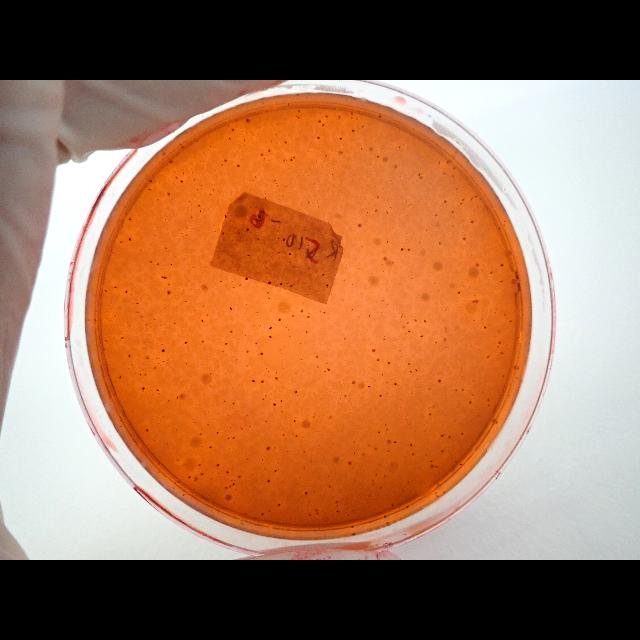colony: (368, 146, 374, 152), (338, 150, 344, 156), (148, 179, 154, 183), (168, 158, 172, 164), (486, 354, 490, 360), (475, 262, 479, 268), (394, 164, 398, 170), (418, 177, 424, 180), (180, 179, 184, 183), (167, 192, 171, 196), (148, 188, 152, 192), (224, 159, 228, 163), (228, 137, 232, 141), (246, 118, 250, 122), (260, 153, 264, 157), (246, 228, 250, 232), (104, 289, 108, 293), (146, 356, 150, 360), (128, 354, 132, 358), (118, 375, 122, 379), (156, 388, 160, 392), (200, 472, 204, 476), (228, 484, 232, 488), (266, 446, 270, 450), (272, 403, 276, 407), (294, 390, 298, 394), (268, 335, 272, 339), (260, 352, 264, 356), (317, 136, 321, 140), (318, 119, 322, 123), (286, 102, 290, 106), (284, 140, 288, 144), (128, 237, 132, 241), (156, 262, 160, 266), (314, 508, 318, 512), (328, 484, 332, 488), (308, 512, 312, 516), (344, 394, 348, 398), (379, 394, 383, 398), (394, 382, 398, 386), (420, 334, 424, 338), (437, 379, 441, 383), (468, 400, 472, 404), (428, 412, 432, 416), (430, 464, 434, 468), (387, 439, 391, 443), (374, 447, 378, 451), (348, 461, 352, 465), (404, 418, 408, 422), (268, 508, 272, 512), (324, 154, 328, 158), (452, 166, 456, 170), (443, 200, 447, 204), (470, 220, 474, 224), (502, 223, 506, 227), (462, 237, 466, 241), (438, 241, 442, 245), (368, 314, 372, 318), (454, 460, 458, 464), (436, 494, 440, 498), (406, 505, 410, 509), (351, 525, 355, 529), (500, 351, 504, 355), (498, 341, 502, 345), (472, 318, 476, 322), (472, 300, 476, 304), (500, 263, 504, 267), (516, 366, 520, 370), (492, 418, 496, 422), (124, 212, 128, 216), (352, 96, 356, 100), (378, 114, 382, 118), (374, 209, 378, 213), (372, 348, 376, 352), (236, 165, 240, 168), (225, 214, 228, 218), (247, 255, 251, 258), (245, 277, 248, 281), (167, 291, 170, 295), (120, 336, 124, 339), (224, 486, 228, 489), (232, 482, 235, 486), (261, 381, 265, 384), (274, 376, 278, 379), (268, 326, 272, 329), (351, 116, 354, 120), (227, 124, 230, 128), (162, 152, 165, 156), (376, 358, 379, 362), (441, 434, 444, 438), (461, 432, 464, 436), (180, 394, 183, 398), (438, 160, 440, 166), (452, 175, 456, 178), (391, 503, 394, 507), (516, 336, 520, 339), (481, 268, 484, 272), (514, 364, 516, 370), (476, 414, 479, 418), (436, 482, 439, 486), (177, 458, 180, 462), (351, 112, 354, 115), (406, 481, 409, 484), (376, 197, 379, 200), (176, 176, 178, 180), (156, 198, 160, 200), (198, 204, 200, 208), (196, 188, 198, 192), (232, 128, 234, 132), (244, 138, 246, 142), (268, 150, 272, 152), (290, 158, 292, 162), (293, 156, 295, 160), (274, 178, 276, 182), (222, 231, 224, 235), (238, 284, 242, 286), (136, 302, 138, 306), (125, 290, 127, 294), (114, 286, 118, 288), (93, 319, 97, 321), (162, 348, 164, 352), (104, 340, 108, 342), (140, 372, 142, 376), (142, 386, 144, 390), (209, 384, 211, 388), (200, 432, 202, 436), (209, 446, 213, 448), (216, 464, 220, 466), (268, 479, 270, 483), (274, 470, 278, 472), (251, 380, 255, 382), (278, 318, 280, 322), (253, 324, 255, 328), (230, 307, 232, 311), (268, 296, 270, 300), (290, 284, 292, 288), (306, 316, 310, 318), (292, 314, 294, 318), (288, 253, 292, 255), (283, 238, 285, 242), (361, 147, 363, 151), (338, 115, 340, 119), (297, 116, 299, 120), (193, 178, 195, 182), (128, 218, 132, 220), (150, 260, 152, 264), (202, 319, 204, 323), (146, 428, 148, 432), (262, 512, 264, 516), (277, 504, 281, 506), (304, 492, 308, 494), (336, 504, 338, 508), (372, 478, 374, 482), (375, 473, 377, 477), (384, 474, 386, 478), (369, 494, 371, 498), (372, 482, 374, 486), (262, 458, 264, 462), (278, 468, 280, 472), (294, 435, 298, 437), (282, 434, 286, 436), (248, 426, 252, 428), (246, 364, 248, 368), (367, 386, 371, 388), (408, 362, 410, 366), (415, 368, 417, 372), (454, 389, 458, 391), (487, 398, 489, 402), (448, 435, 450, 439), (442, 449, 444, 453), (436, 465, 438, 469), (410, 443, 412, 447), (412, 452, 414, 456), (386, 428, 388, 432), (127, 382, 129, 386), (136, 311, 140, 313), (418, 173, 420, 177), (446, 160, 448, 164), (442, 172, 446, 174), (456, 187, 458, 191), (452, 210, 454, 214), (462, 198, 464, 202), (470, 197, 472, 201), (474, 196, 478, 198), (498, 227, 500, 231), (502, 220, 506, 222), (408, 248, 410, 252), (400, 248, 404, 250), (387, 240, 389, 244), (351, 308, 353, 312), (342, 298, 344, 302), (343, 278, 345, 282), (362, 339, 366, 341), (368, 418, 370, 422), (384, 514, 386, 518), (386, 521, 388, 525), (352, 534, 356, 536), (428, 387, 430, 391), (509, 320, 513, 322), (414, 318, 416, 322), (444, 346, 448, 348), (434, 342, 438, 344), (444, 309, 448, 311), (458, 291, 460, 295), (476, 299, 478, 303), (490, 271, 492, 275), (502, 374, 504, 378), (516, 376, 518, 380), (496, 420, 498, 424), (248, 206, 252, 208), (296, 94, 300, 96), (425, 228, 427, 232), (362, 452, 364, 456), (232, 286, 235, 288), (160, 276, 163, 278), (154, 366, 156, 369), (176, 396, 178, 399), (207, 424, 210, 426), (226, 471, 228, 474), (232, 437, 235, 439), (228, 436, 230, 439), (306, 331, 308, 334), (255, 342, 258, 344), (246, 351, 248, 354), (230, 331, 232, 334), (225, 343, 228, 345), (313, 182, 315, 185), (362, 125, 364, 128), (376, 156, 379, 158), (326, 115, 328, 118), (220, 164, 223, 166), (191, 170, 193, 173), (201, 185, 203, 188), (186, 227, 188, 230), (165, 248, 168, 250), (185, 301, 188, 303), (160, 343, 163, 345), (185, 342, 188, 344), (195, 477, 198, 479), (182, 494, 185, 496), (178, 481, 180, 484), (336, 501, 338, 504), (380, 486, 382, 489), (303, 451, 305, 454), (410, 371, 412, 374), (394, 441, 396, 444), (386, 450, 389, 452), (378, 431, 380, 434), (158, 356, 160, 359), (452, 225, 454, 228), (361, 326, 363, 329), (496, 329, 499, 331), (200, 428, 203, 430), (192, 249, 195, 251), (281, 167, 283, 170), (366, 212, 369, 214), (386, 212, 389, 214), (390, 207, 392, 210), (332, 172, 334, 175), (332, 167, 334, 170), (182, 172, 184, 174), (188, 201, 190, 203), (209, 146, 211, 148), (268, 159, 270, 161), (283, 159, 285, 161), (276, 183, 278, 185), (277, 185, 279, 187), (285, 185, 287, 187), (282, 195, 284, 197), (255, 176, 257, 178), (238, 232, 240, 234), (232, 239, 234, 241), (257, 238, 259, 240), (231, 280, 233, 282), (220, 280, 222, 282), (168, 284, 170, 286), (163, 276, 165, 278), (114, 315, 116, 317), (162, 360, 164, 362), (131, 364, 133, 366), (144, 374, 146, 376), (168, 400, 170, 402), (158, 393, 160, 395), (224, 400, 226, 402), (232, 402, 234, 404), (217, 432, 219, 434), (198, 464, 200, 466), (188, 476, 190, 478), (238, 476, 240, 478), (234, 479, 236, 481), (252, 473, 254, 475), (274, 446, 276, 448), (286, 450, 288, 452), (246, 458, 248, 460), (241, 427, 243, 429), (230, 426, 232, 428), (265, 420, 267, 422), (280, 400, 282, 402), (268, 371, 270, 373), (275, 372, 277, 374), (262, 398, 264, 400), (295, 373, 297, 375), (300, 358, 302, 360), (316, 356, 318, 358), (326, 362, 328, 364), (328, 368, 330, 370), (324, 371, 326, 373), (317, 366, 319, 368), (304, 341, 306, 343), (300, 343, 302, 345), (245, 334, 247, 336), (259, 324, 261, 326), (256, 311, 258, 313), (245, 303, 247, 305), (267, 292, 269, 294), (268, 282, 270, 284), (280, 283, 282, 285), (322, 274, 324, 276), (326, 284, 328, 286), (307, 293, 309, 295), (301, 309, 303, 311), (301, 311, 303, 313), (323, 312, 325, 314), (229, 268, 231, 270), (257, 260, 259, 262), (278, 252, 280, 254), (266, 267, 268, 269), (272, 268, 274, 270), (289, 261, 291, 263), (307, 267, 309, 269), (286, 282, 288, 284), (277, 238, 279, 240), (308, 244, 310, 246), (258, 216, 260, 218), (307, 174, 309, 176), (340, 138, 342, 140), (352, 130, 354, 132), (322, 124, 324, 126), (298, 110, 300, 112), (271, 141, 273, 143), (182, 146, 184, 148), (209, 193, 211, 195), (199, 210, 201, 212), (191, 216, 193, 218), (178, 229, 180, 231), (186, 234, 188, 236), (165, 218, 167, 220), (120, 241, 122, 243), (170, 263, 172, 265), (174, 322, 176, 324), (202, 340, 204, 342), (185, 363, 187, 365), (210, 373, 212, 375), (225, 373, 227, 375), (266, 368, 268, 370), (166, 443, 168, 445), (194, 480, 196, 482), (210, 477, 212, 479), (231, 479, 233, 481), (337, 510, 339, 512), (316, 512, 318, 514), (314, 491, 316, 493), (308, 501, 310, 503), (352, 509, 354, 511), (347, 514, 349, 516), (303, 466, 305, 468), (299, 477, 301, 479), (277, 462, 279, 464), (310, 460, 312, 462), (332, 443, 334, 445), (292, 433, 294, 435), (269, 425, 271, 427), (268, 423, 270, 425), (294, 420, 296, 422), (295, 416, 297, 418), (246, 415, 248, 417), (163, 416, 165, 418), (206, 314, 208, 316), (194, 310, 196, 312), (202, 305, 204, 307), (197, 319, 199, 321), (279, 349, 281, 351), (238, 338, 240, 340), (235, 359, 237, 361), (222, 351, 224, 353), (241, 380, 243, 382), (274, 391, 276, 393), (274, 397, 276, 399), (281, 411, 283, 413), (313, 416, 315, 418), (386, 382, 388, 384), (386, 392, 388, 394), (352, 382, 354, 384), (388, 362, 390, 364), (344, 338, 346, 340), (383, 335, 385, 337), (383, 338, 385, 340), (408, 330, 410, 332), (405, 333, 407, 335), (462, 388, 464, 390), (471, 393, 473, 395), (487, 404, 489, 406), (444, 433, 446, 435), (460, 463, 462, 465), (430, 460, 432, 462), (368, 444, 370, 446), (353, 452, 355, 454), (385, 424, 387, 426), (354, 440, 356, 442), (128, 368, 130, 370), (143, 368, 145, 370), (158, 362, 160, 364), (128, 325, 130, 327), (154, 318, 156, 320), (160, 321, 162, 323), (164, 307, 166, 309), (154, 234, 156, 236), (321, 158, 323, 160), (315, 161, 317, 163), (460, 202, 462, 204), (480, 198, 482, 200), (381, 263, 383, 265), (382, 300, 384, 302), (399, 283, 401, 285), (411, 278, 413, 280), (351, 283, 353, 285), (381, 312, 383, 314), (399, 350, 401, 352), (382, 374, 384, 376), (428, 407, 430, 409), (425, 454, 427, 456), (435, 492, 437, 494), (444, 492, 446, 494), (418, 386, 420, 388), (410, 392, 412, 394), (416, 378, 418, 380), (461, 375, 463, 377), (460, 378, 462, 380), (497, 346, 499, 348), (484, 326, 486, 328), (482, 318, 484, 320), (504, 314, 506, 316), (494, 312, 496, 314), (498, 331, 500, 333), (424, 320, 426, 322), (407, 322, 409, 324), (434, 337, 436, 339), (401, 314, 403, 316), (404, 315, 406, 317), (438, 289, 440, 291), (500, 280, 502, 282), (205, 480, 207, 482), (175, 429, 177, 431), (273, 225, 275, 227), (277, 231, 279, 233), (240, 237, 242, 239), (226, 243, 228, 245), (214, 230, 216, 232), (213, 224, 215, 226), (275, 134, 277, 136), (356, 118, 358, 120), (406, 200, 408, 202), (408, 204, 410, 206), (372, 199, 374, 201), (331, 150, 333, 152), (435, 214, 437, 216), (385, 328, 387, 330), (334, 322, 336, 324), (331, 319, 333, 321), (431, 250, 432, 253), (166, 277, 167, 279), (265, 193, 267, 194), (280, 352, 282, 353), (314, 412, 316, 413), (352, 266, 353, 268), (401, 316, 402, 318), (418, 241, 419, 243), (264, 158, 264, 160), (266, 197, 266, 199), (266, 395, 266, 397), (290, 334, 290, 338), (288, 328, 288, 332), (324, 282, 324, 284), (266, 262, 266, 264), (265, 266, 267, 266), (265, 276, 267, 276), (296, 265, 296, 267), (326, 480, 326, 482), (185, 388, 187, 388), (282, 387, 282, 389), (340, 397, 340, 399), (292, 459, 292, 461), (400, 145, 400, 149), (382, 272, 384, 272), (346, 264, 346, 266), (360, 316, 360, 318), (367, 356, 369, 356), (384, 187, 384, 189), (366, 188, 366, 190)
